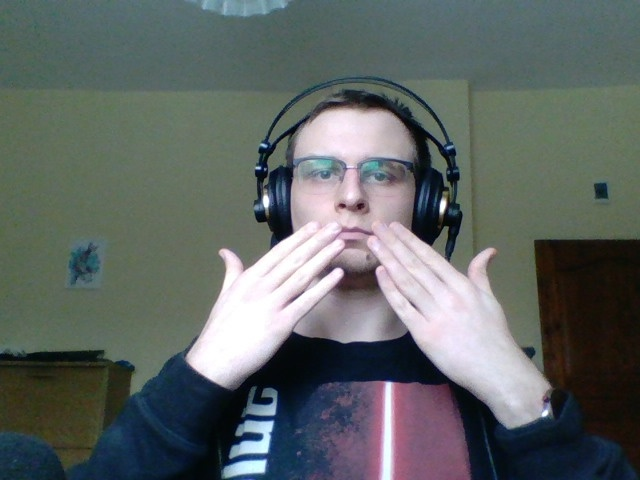thanks: (172, 216, 567, 436)
